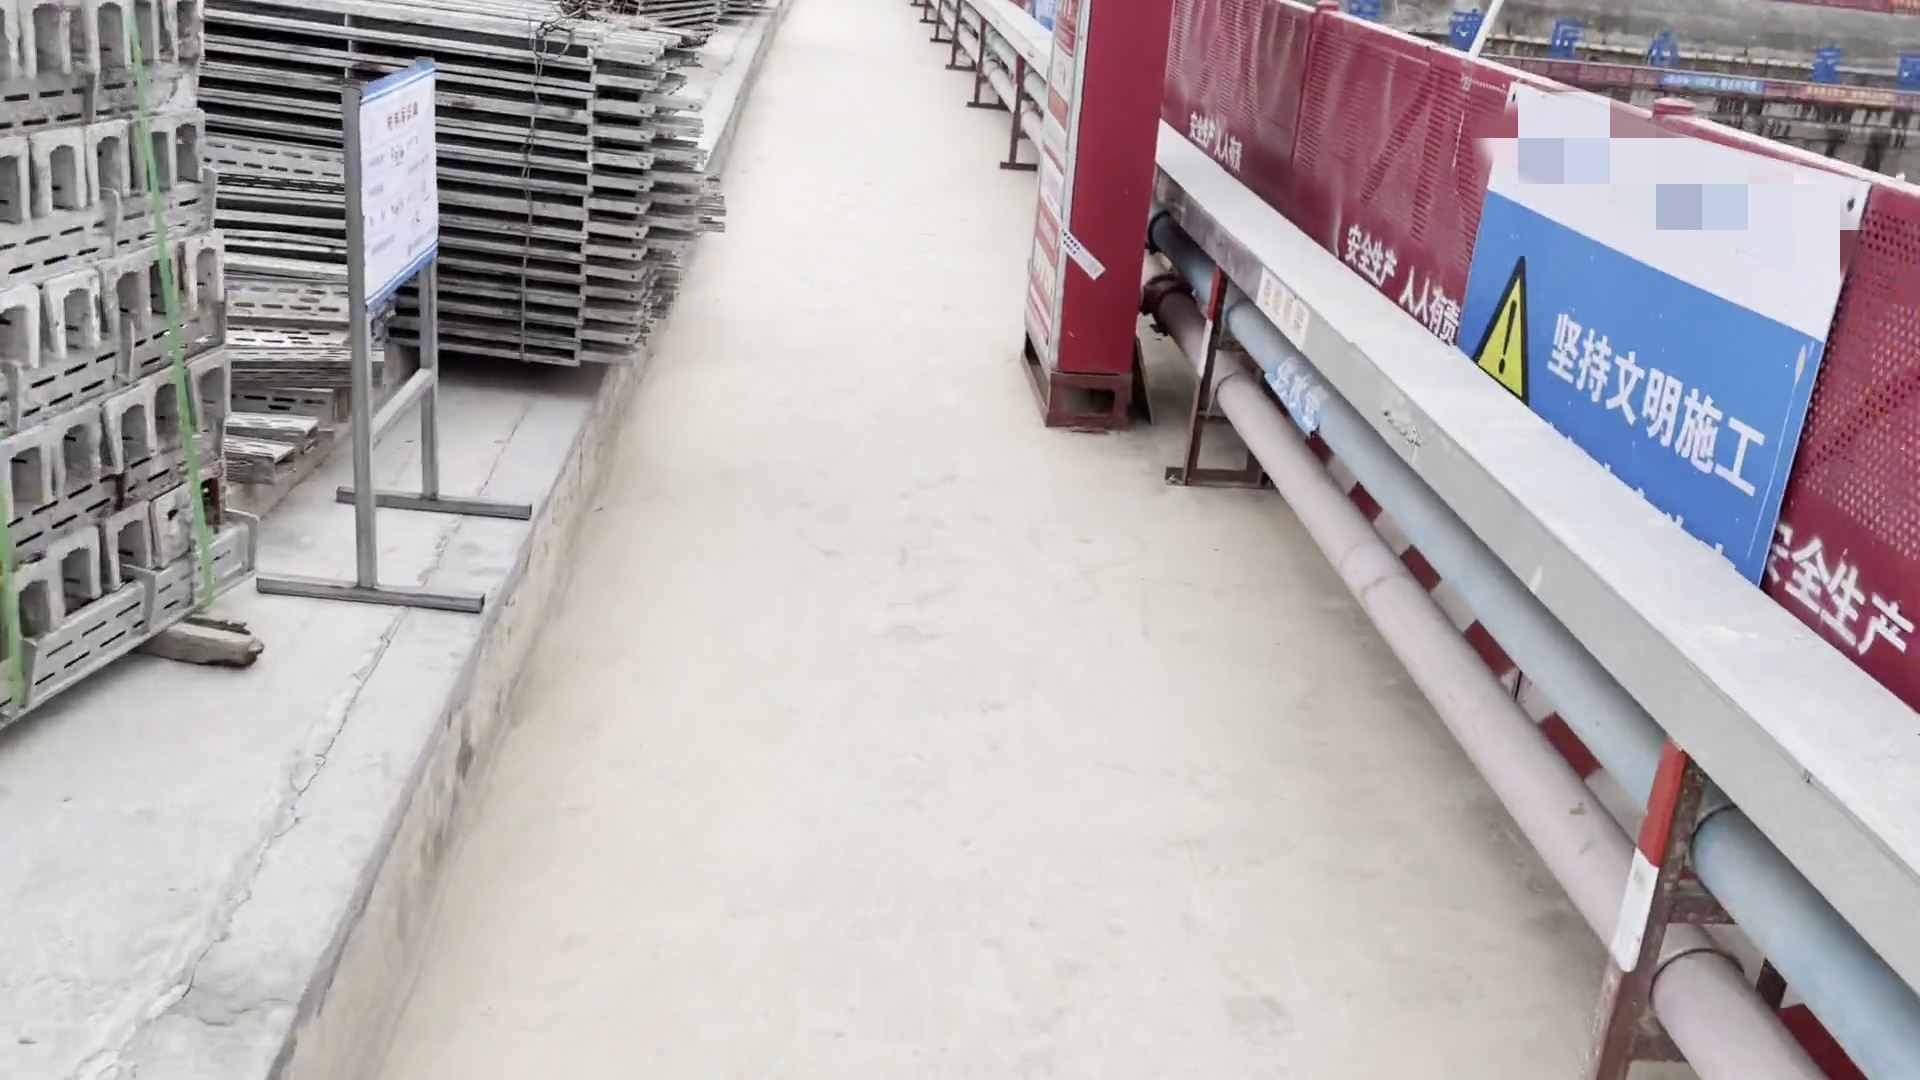fence: (1506, 78, 1920, 727), (1168, 1, 1538, 468)
slogan: (1448, 65, 1887, 603), (330, 37, 468, 342)
